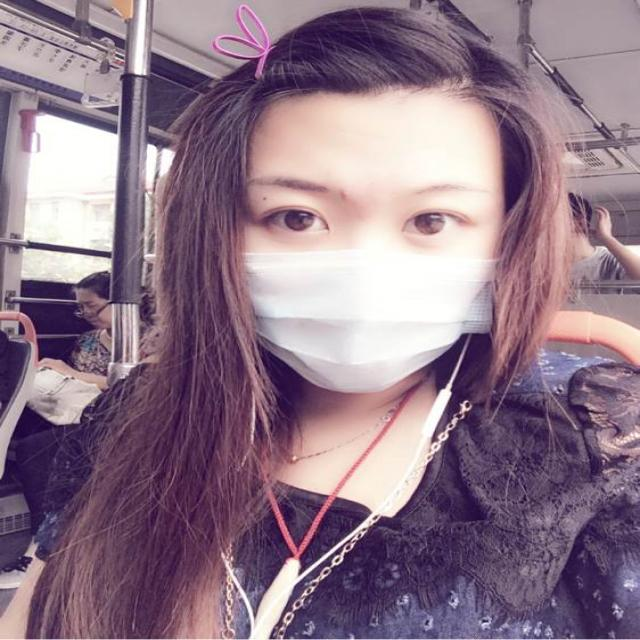mask: (232, 85, 492, 395), (76, 287, 108, 326)
